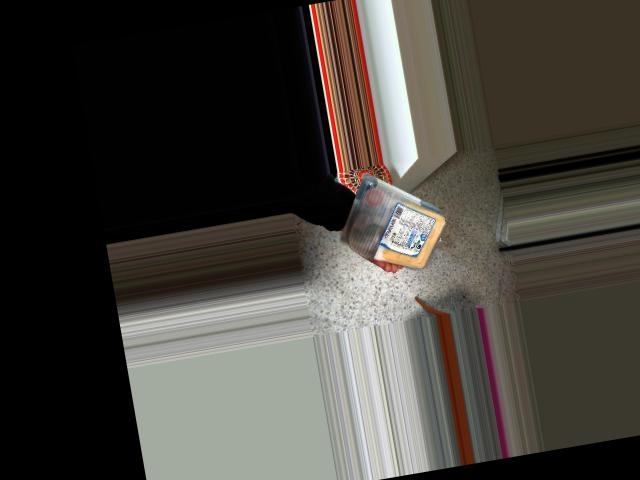cheese: (352, 201, 453, 268)
